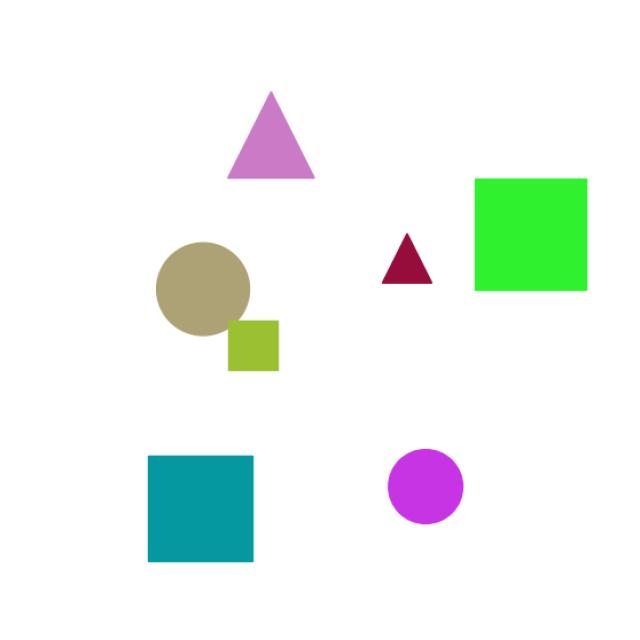Circle: (146, 234, 255, 344), (372, 448, 471, 532)
Triangle: (222, 92, 334, 190), (367, 219, 439, 293)
square: (458, 160, 604, 305), (133, 449, 277, 578), (219, 302, 297, 384)
